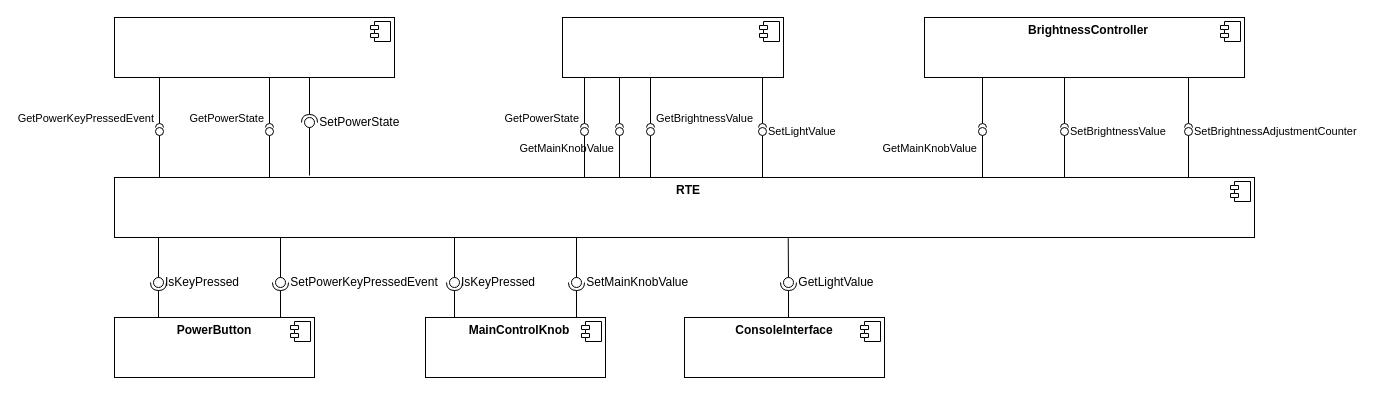
Some shapes in this 1374 by 395 pixel diagram are drawn without their labels. Here are the shapes that lost their labels. From the top down, the box of each, then its label:
(114, 16, 394, 78): PowerSignalProcessing
(562, 16, 784, 78): LightController
